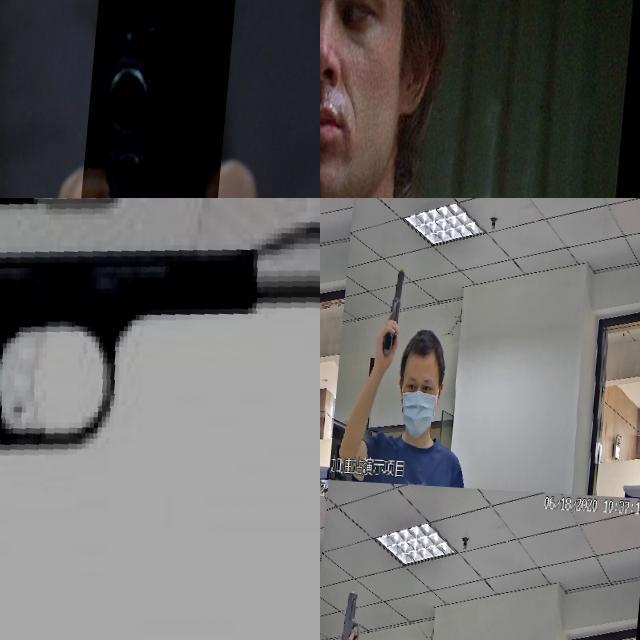gun-knife-thesis - v11 Yolov5 augmented: (0, 198, 320, 640), (74, 0, 237, 198), (320, 72, 421, 198), (372, 268, 413, 350), (342, 581, 385, 640), (320, 249, 337, 337), (320, 572, 336, 640)
